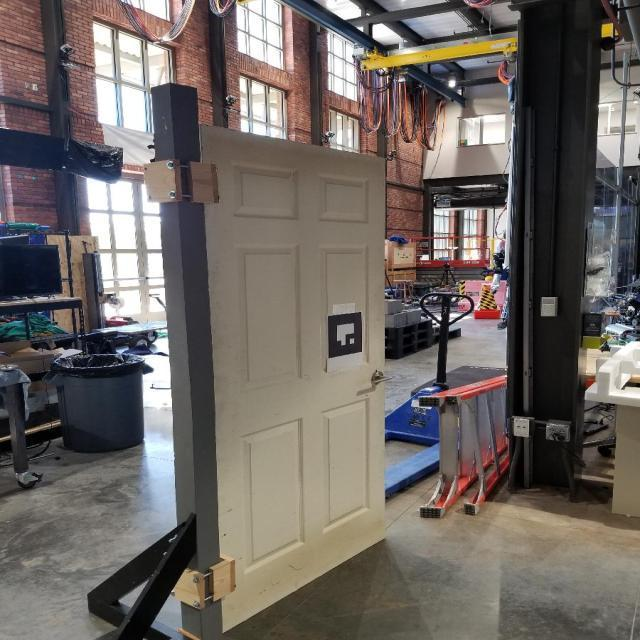door: (192, 121, 391, 634), (363, 369, 397, 387)
